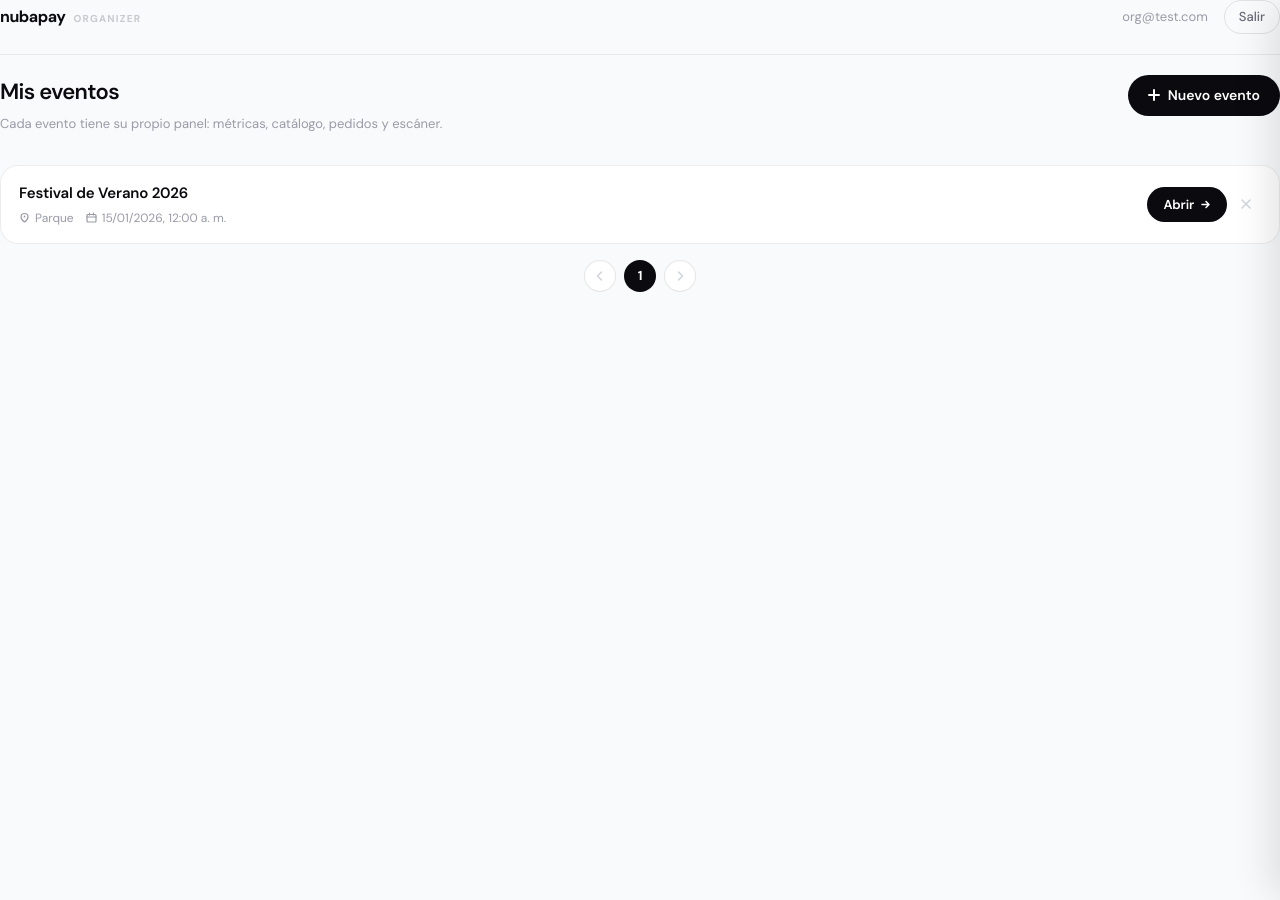
Test: EventsView › elimina un evento tras confirmar en el modal
Check: the text "Festival de Verano 2026" is shown, box [19,182,188,204]
Click the button named "Eliminar".
click(1246, 204)  # box [1231,189,1261,219]
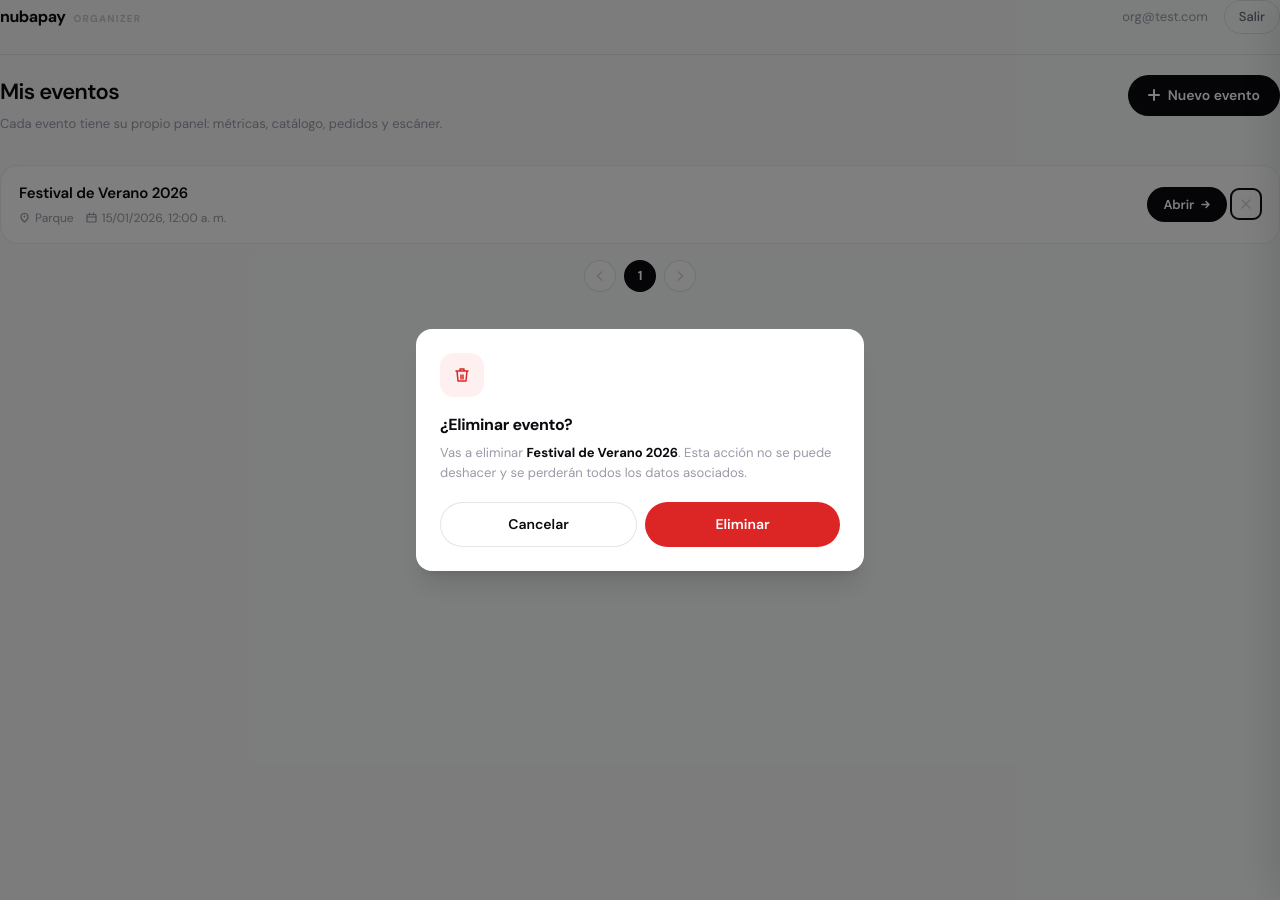
Check: the heading "¿Eliminar evento?" is shown, box [440,414,572,435]
Click the button "Eliminar".
click(742, 524)  # box [645,502,840,547]
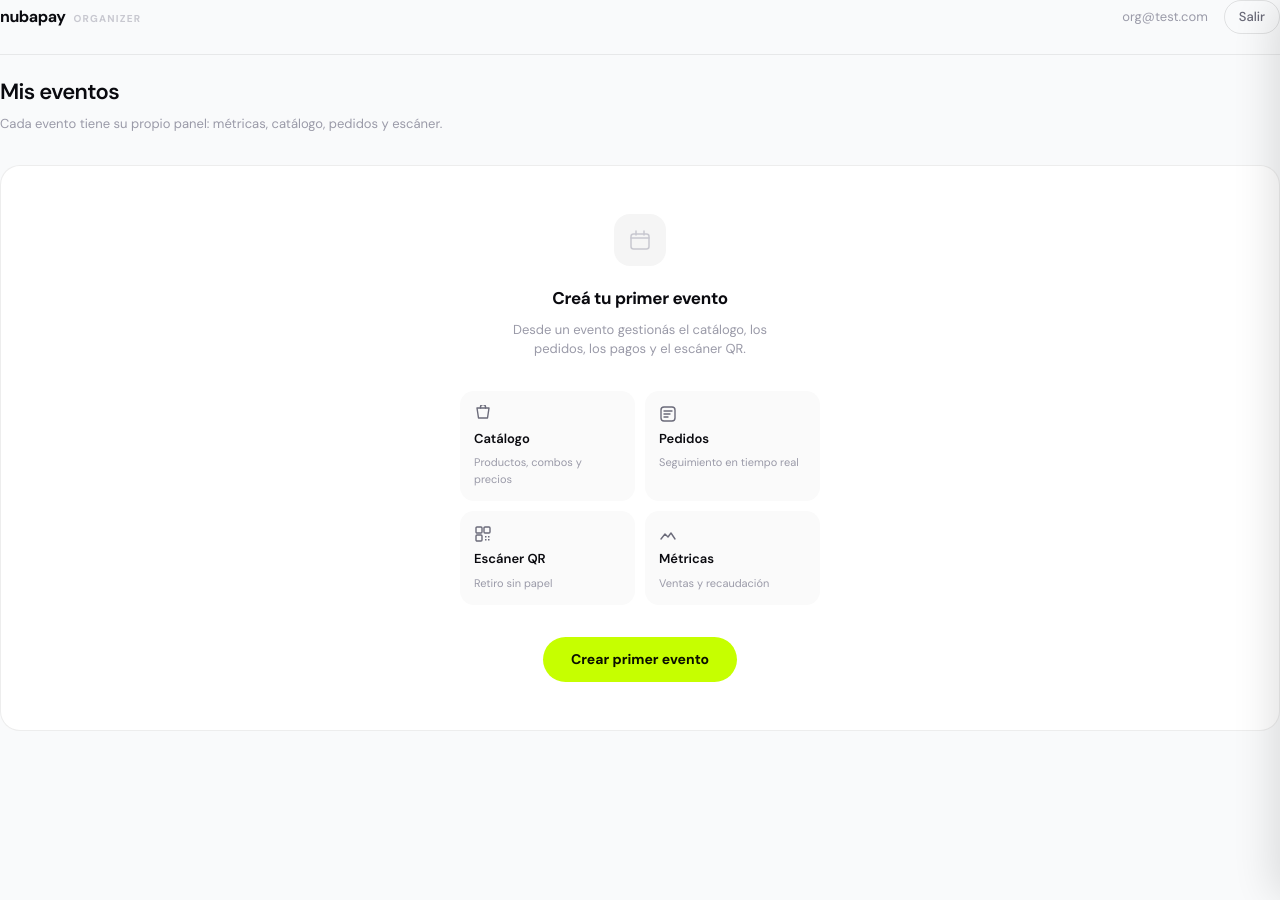
Check: the link "Festival de Verano 2026" is gone
